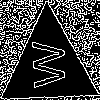W: (24, 40, 66, 89)
